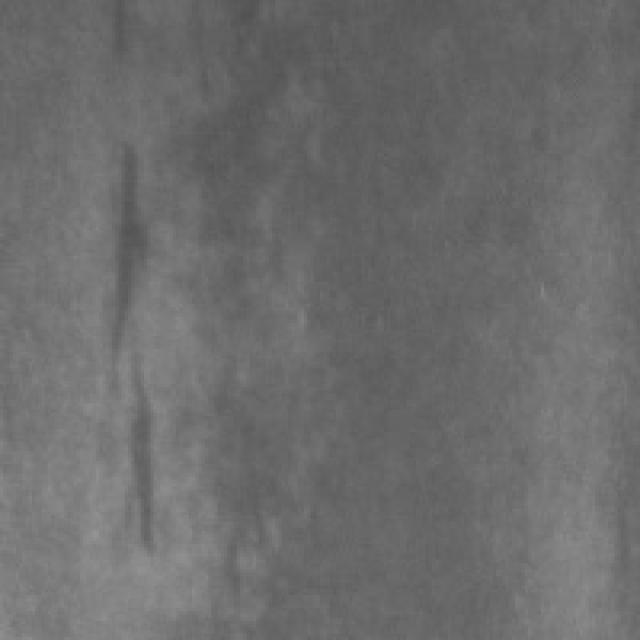inclusion: (106, 128, 186, 368), (118, 342, 173, 570)
